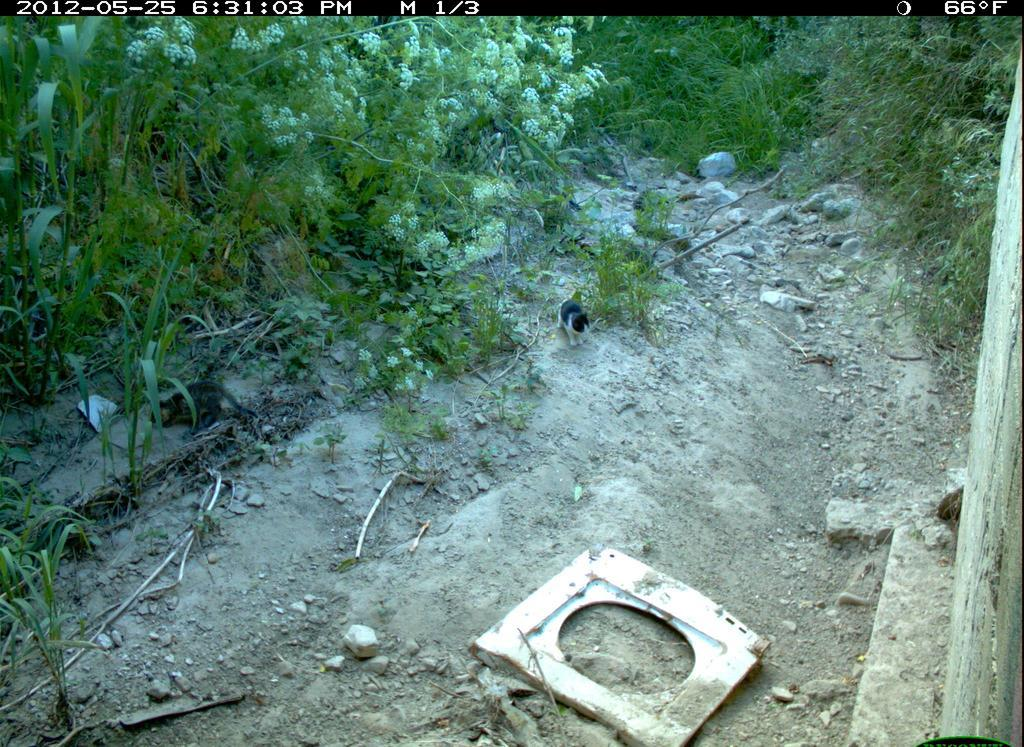cat: (149, 361, 278, 463), (560, 286, 602, 355)
